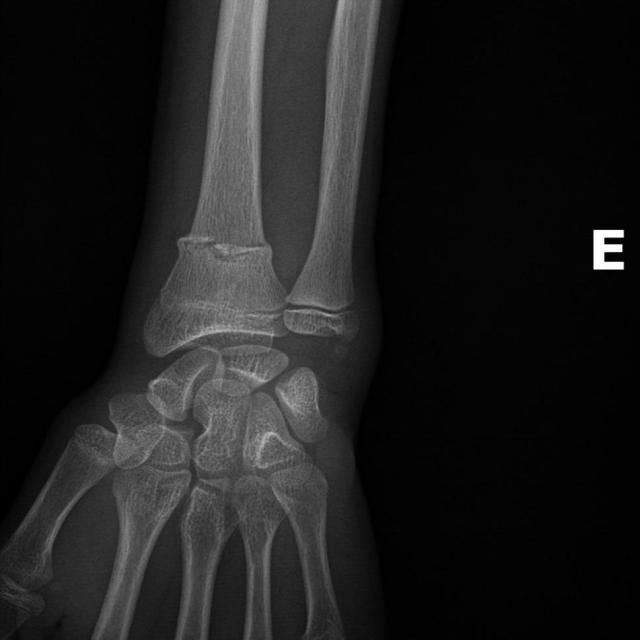fracture: (177, 232, 274, 255)
